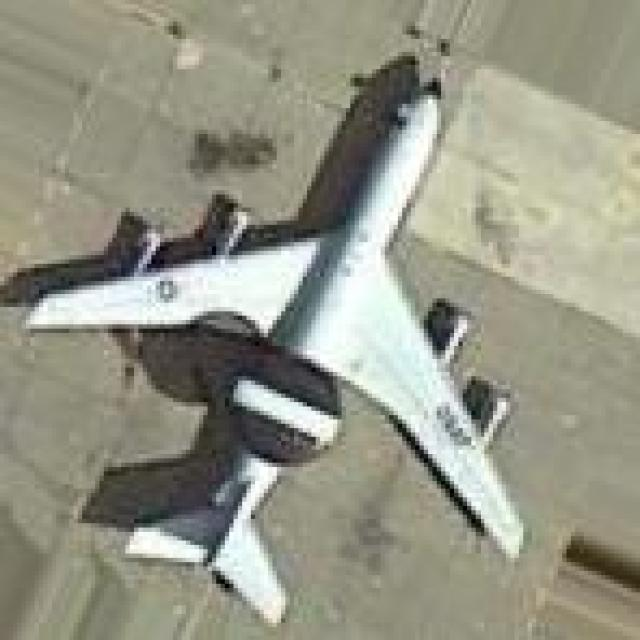E-3_TopDown: (13, 35, 532, 622)
